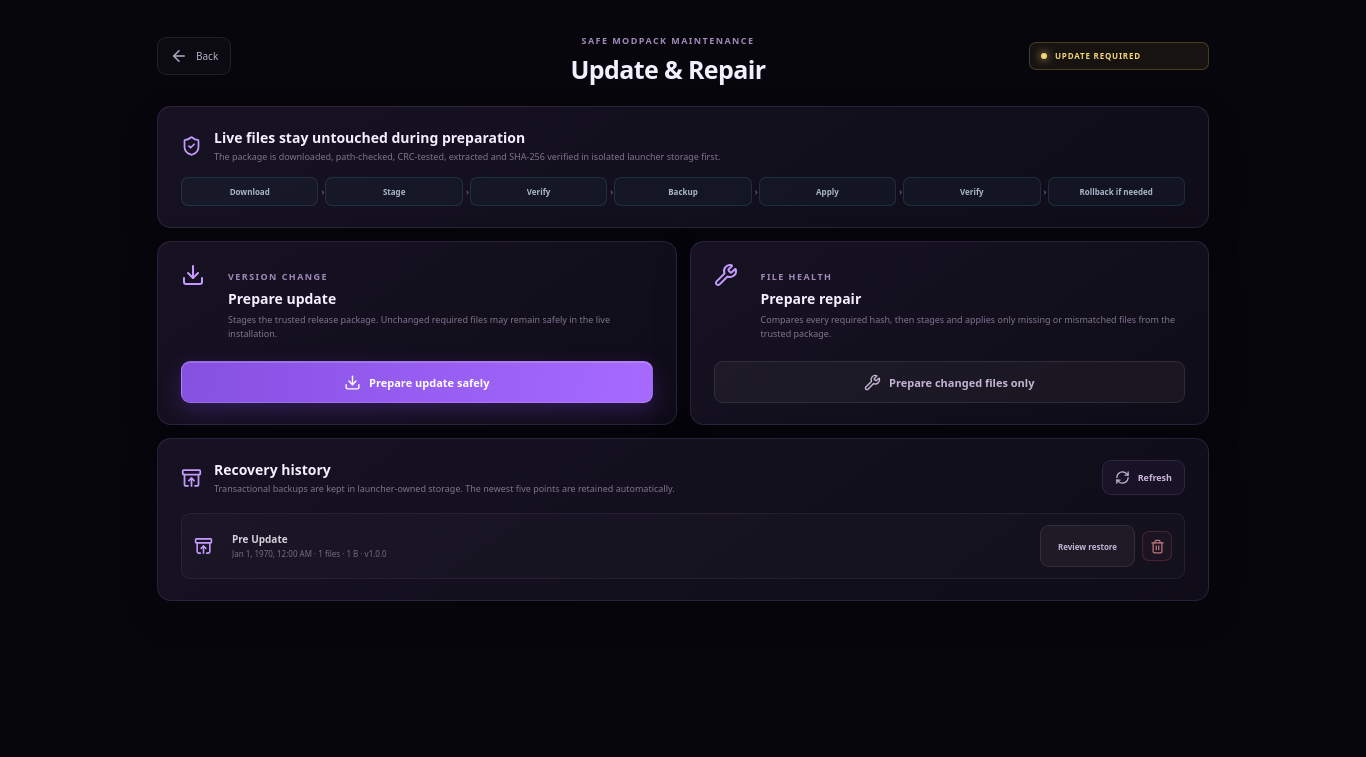
Scenario: blocks restore controls while applying and passes the reviewed profile identity
Expected: the button "Review restore" is shown, [1040, 525, 1135, 567]
Click the button "Prepare update safely": (417, 382) [181, 361, 652, 403]
(page scrolled)
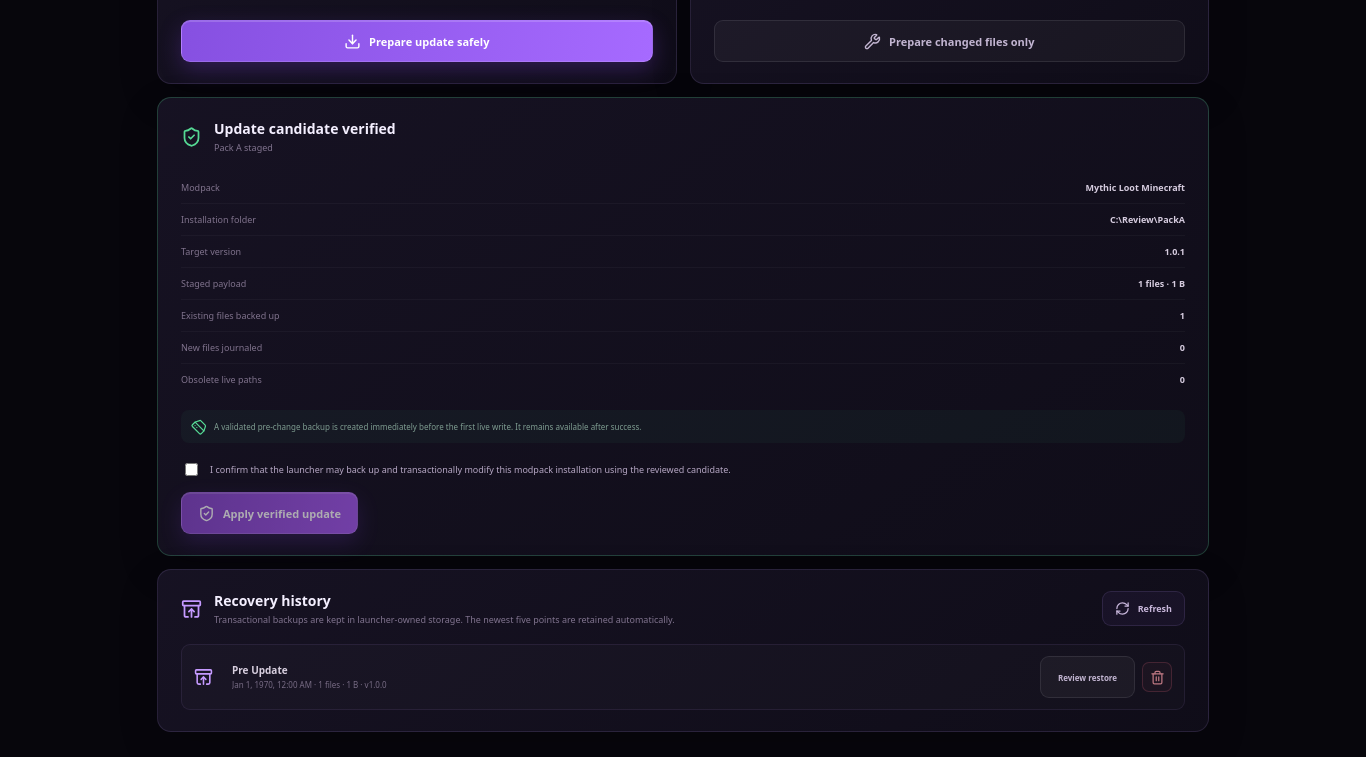
Expected: the button "Apply verified update" is shown, [181, 492, 358, 534]
Click the checkbox labelled "I confirm that the launcher may back up": (192, 470) [185, 463, 198, 476]
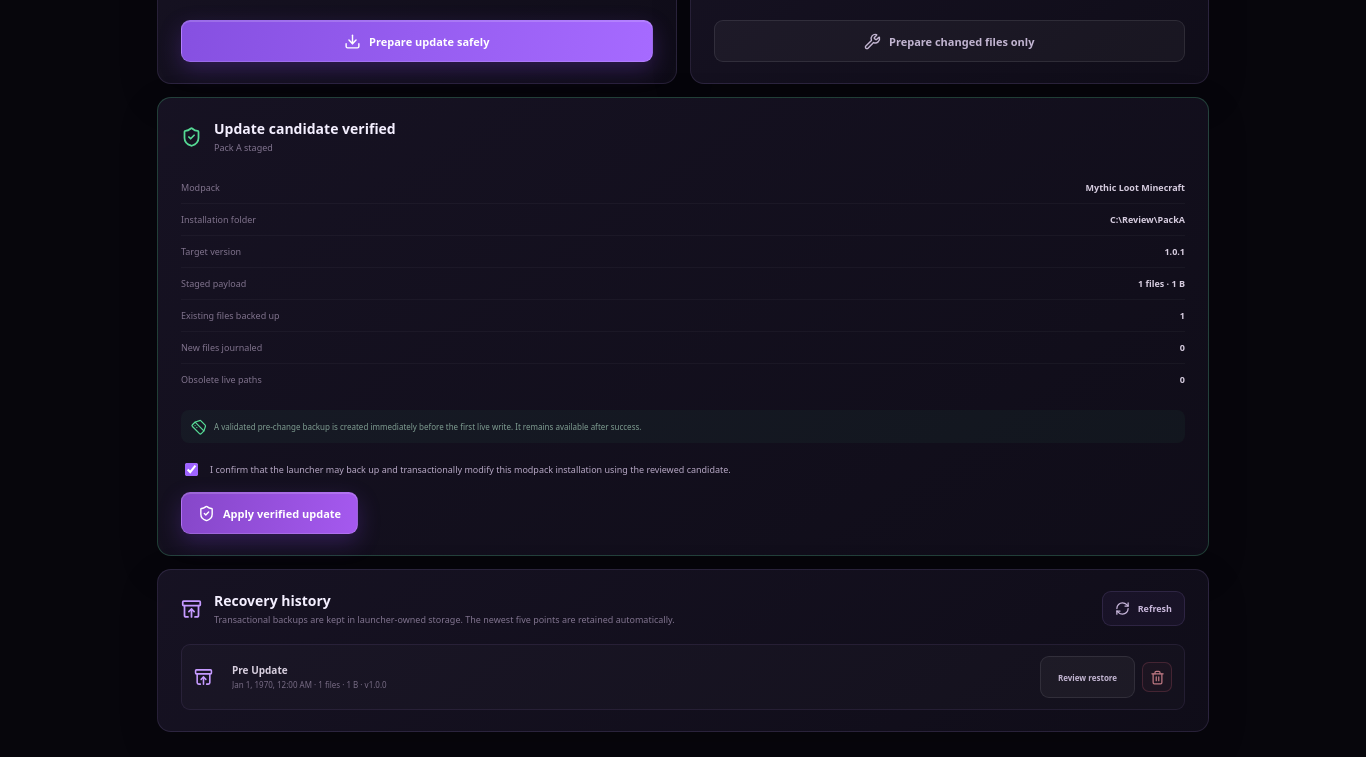
Click the button "Apply verified update": (270, 513) [181, 492, 358, 534]
(page scrolled)
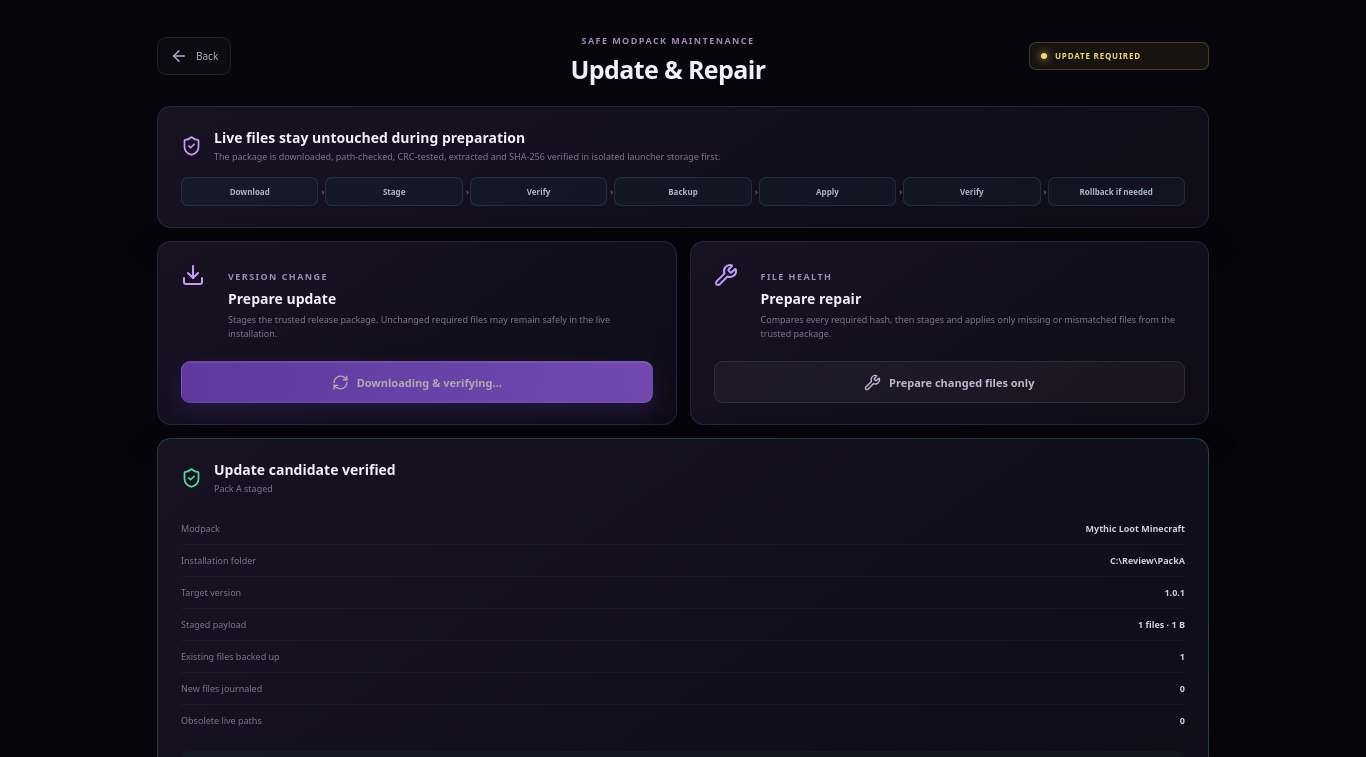
Expected: the button "Back" is disabled, [157, 36, 231, 74]
